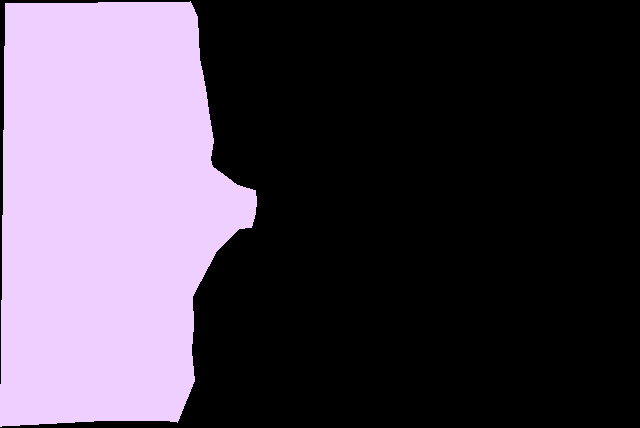Train: (0, 1, 256, 426)
